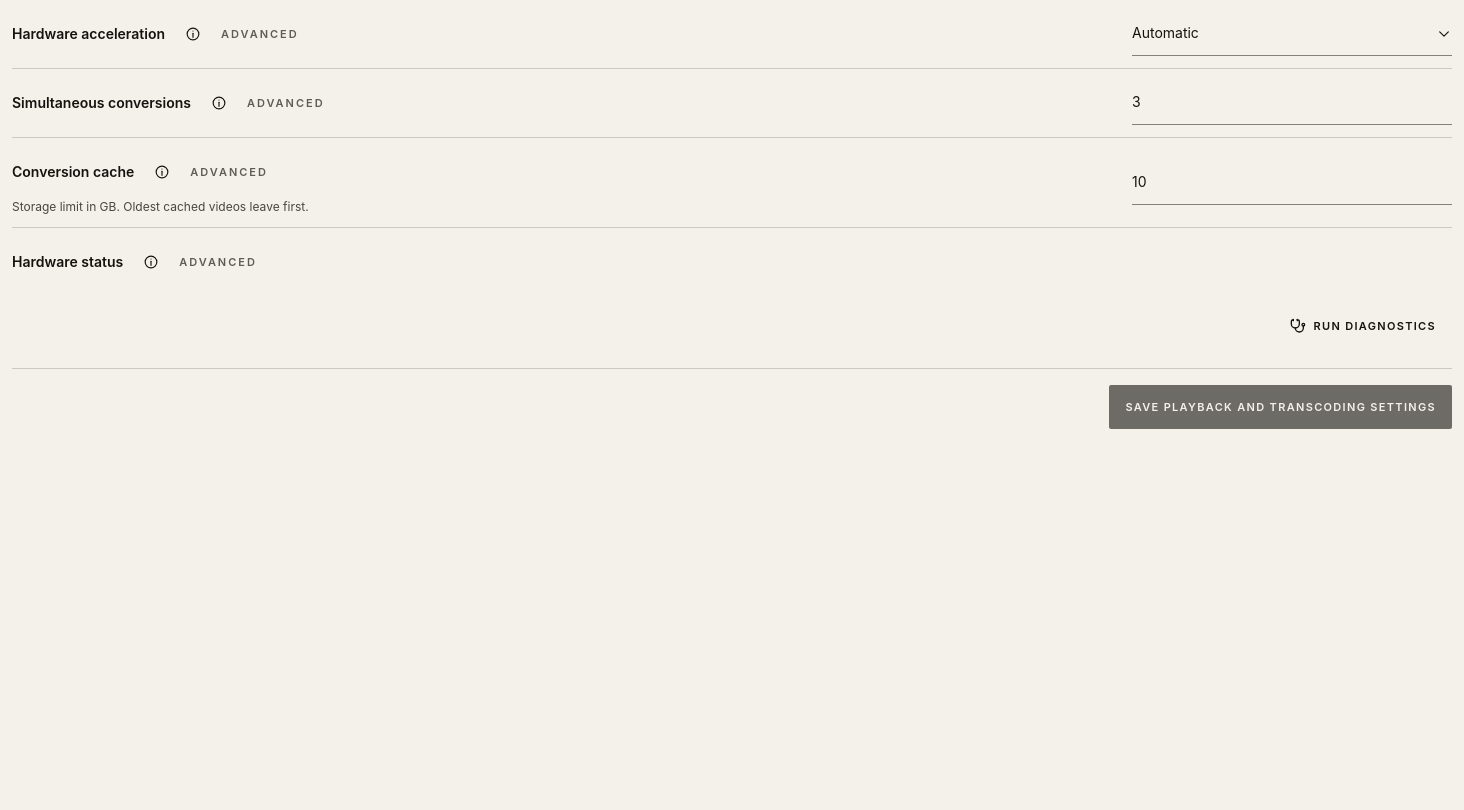
Test case: Media server and Playback & transcoding sections › reports exact Rockchip zero-copy pairs separately from HDR preservation
Click the button "Run diagnostics". click: (1363, 326)
box: [1274, 304, 1452, 348]
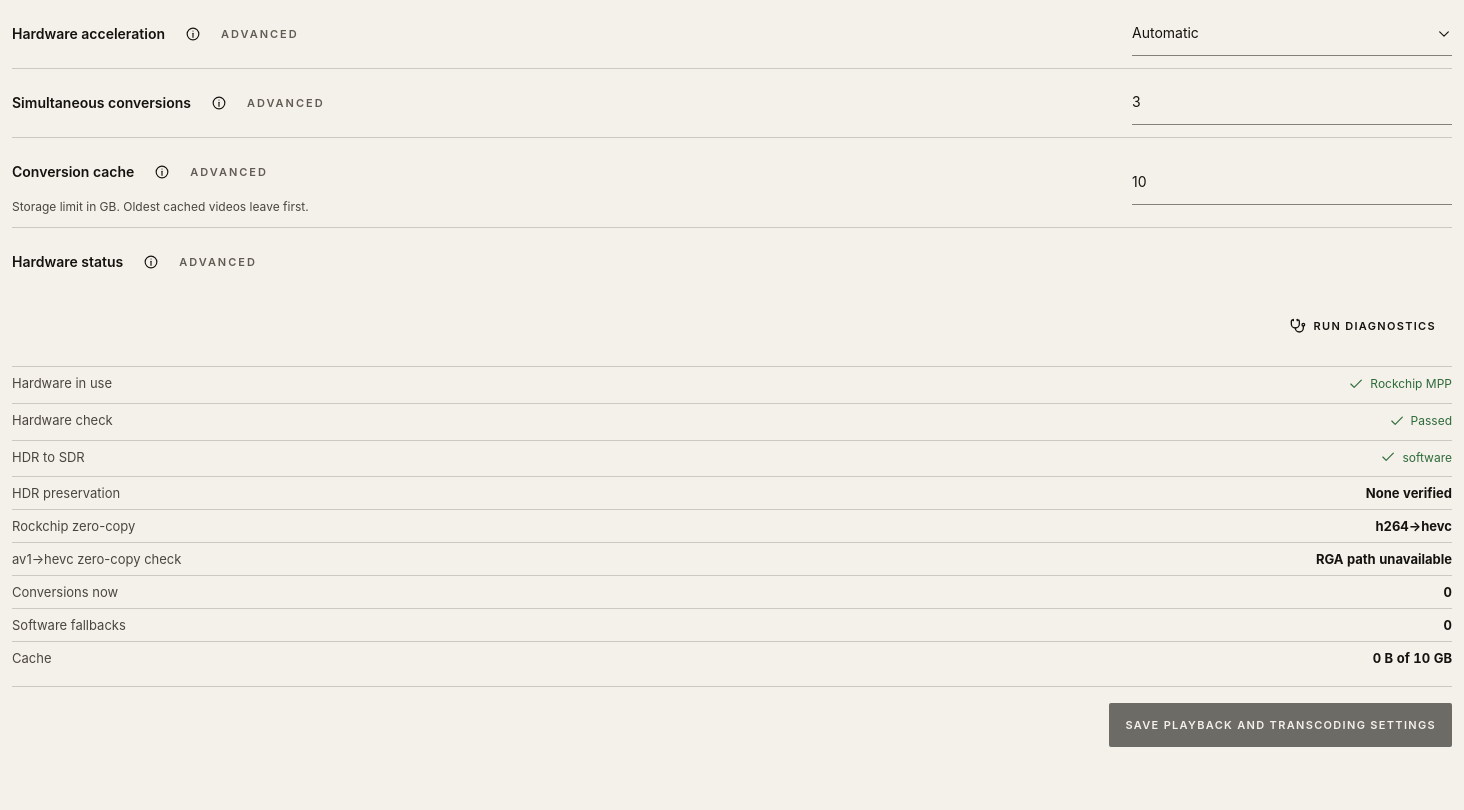
expect the list named "Diagnostics" shows "Rockchip MPP": met, box [1370, 376, 1452, 391]
expect the list named "Diagnostics" shows "RGA path unavailable": met, box [1316, 552, 1452, 568]
